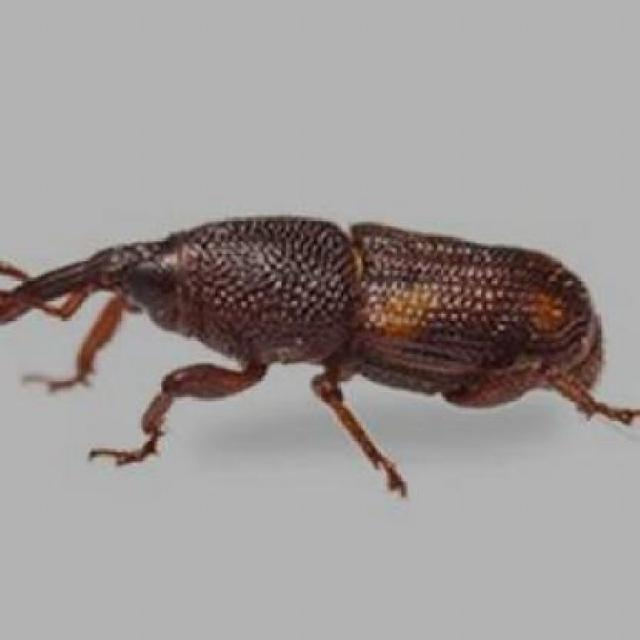rice-bug: (0, 216, 620, 467)
